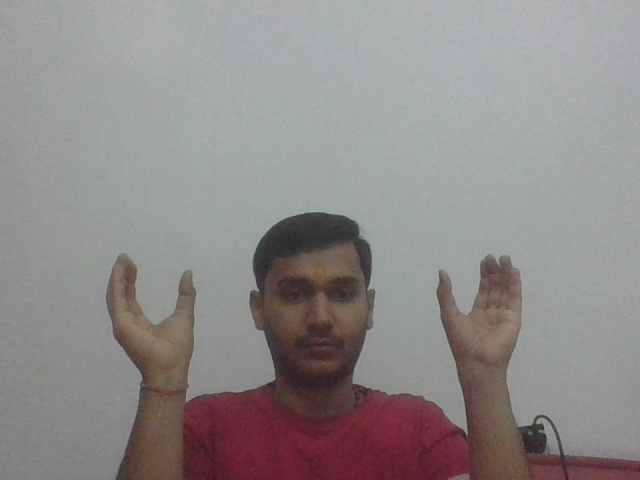U: (106, 251, 199, 377), (437, 249, 528, 377)
